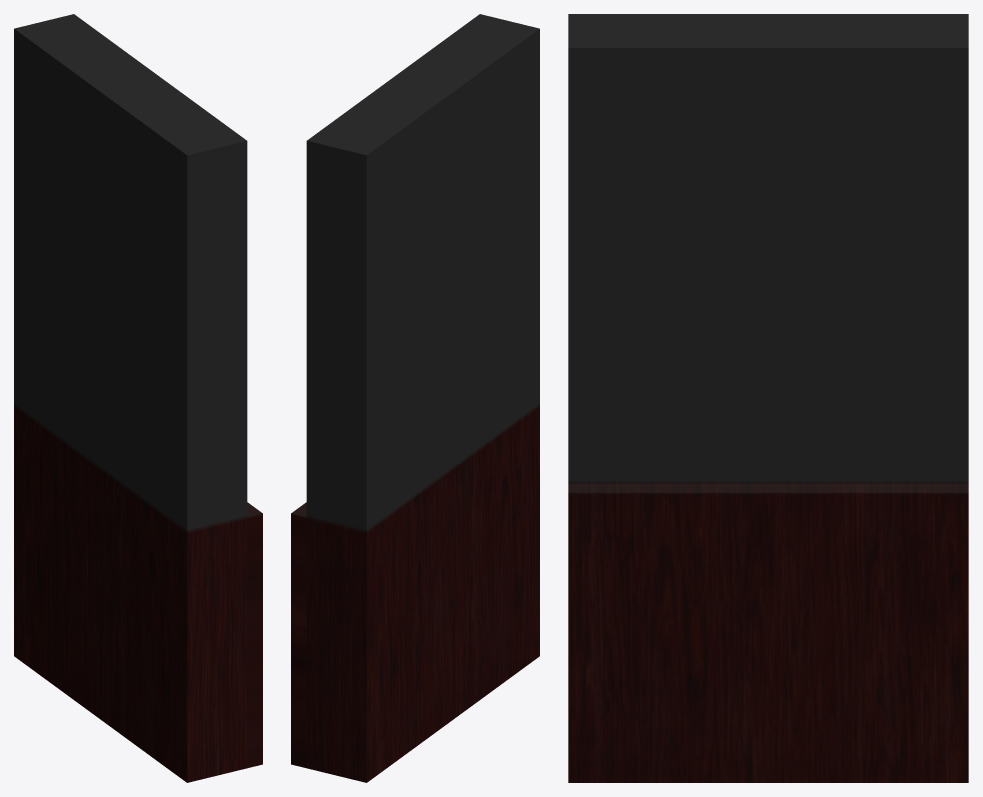
The model's file is livingroom_wall.glb.
The picture shows the model from 3 angles, left to right: view 1: azimuth 30°, elevation 25°; view 2: azimuth 150°, elevation 25°; view 3: azimuth 270°, elevation 25°; orthographic projection. The views are drawn at different scales.
Parts seen in each view (by area): view 1: pCube3; view 2: pCube3; view 3: pCube3.
Boxes of the visible parts, box(x1,y1,x2,y2) form: pCube3: box(14, 14, 262, 782); pCube3: box(291, 14, 539, 782); pCube3: box(568, 14, 968, 782).
Size of the model in its own units: 0.2525 by 2 by 1.
1 material, 1 textured.
